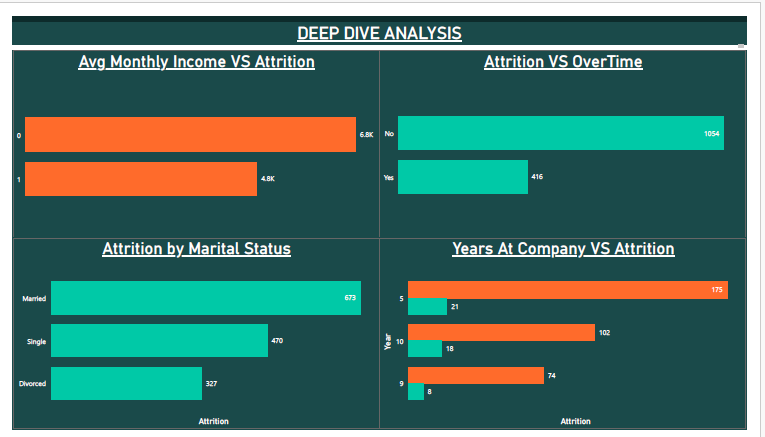

The dashboard page shown, as its layout file describes it:
{"tool":"powerbi","page":{"name":"Deep Analysis","canvas":[1280,720],"ordinal":1},"visuals":[{"type":"textbox","title":"DEEP DIVE ANALYSIS","box":[0,9.9,1279.8,48.2],"z":0},{"type":"clusteredBarChart","title":"Avg Monthly Income VS Attrition","fields":{"Y":["Avg(hr_attrition_cleaned (1).MonthlyIncome)"],"Category":["hr_attrition_cleaned (1).Attrition"]},"box":[0,59,640,333.3],"z":1000},{"type":"clusteredBarChart","title":"Attrition VS OverTime","fields":{"Category":["hr_attrition_cleaned (1).OverTime_Name"],"Y":["CountNonNull(hr_attrition_cleaned (1).Attrition)"]},"box":[640,59,640,327.4],"z":2000},{"type":"clusteredBarChart","title":"Attrition by Marital Status","fields":{"Category":["hr_attrition_cleaned (1).MaritalStatus_Name"],"Y":["CountNonNull(hr_attrition_cleaned (1).Attrition)"]},"box":[0,386.4,640,333.3],"z":3000},{"type":"clusteredBarChart","title":"Years At Company VS Attrition","fields":{"Y":["CountNonNull(hr_attrition_cleaned (1).Attrition)"],"Category":["hr_attrition_cleaned (1).YearsAtCompany"],"Series":["hr_attrition_cleaned (1).Attrition"]},"box":[640,386.4,640,333.3],"z":4000}]}

Visuals, with their boxes in screenshot pixels (x1, y1, x2, y2), scaled from the page's 1280x720 canvas onto the 765x437 screenshot:
"DEEP DIVE ANALYSIS" textbox: x1=0 y1=6 x2=764 y2=35
"Avg Monthly Income VS Attrition" clusteredBarChart: x1=0 y1=36 x2=382 y2=238
"Attrition VS OverTime" clusteredBarChart: x1=382 y1=36 x2=764 y2=235
"Attrition by Marital Status" clusteredBarChart: x1=0 y1=235 x2=382 y2=436
"Years At Company VS Attrition" clusteredBarChart: x1=382 y1=235 x2=764 y2=436
